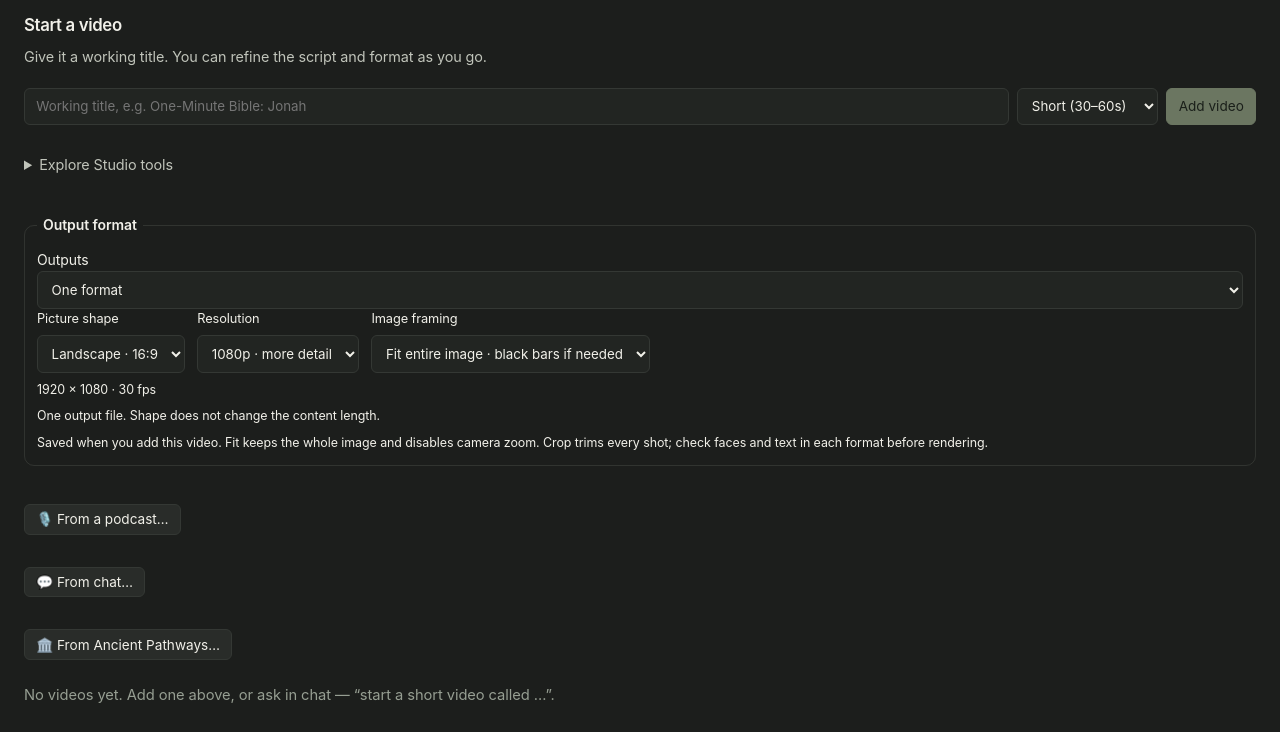
Media Studio — from a podcast feed › a bad link shows the plain-language reason and creates nothing
(page scrolled)
Click the button "From a podcast…" at x=102, y=519, box [24, 504, 181, 535]
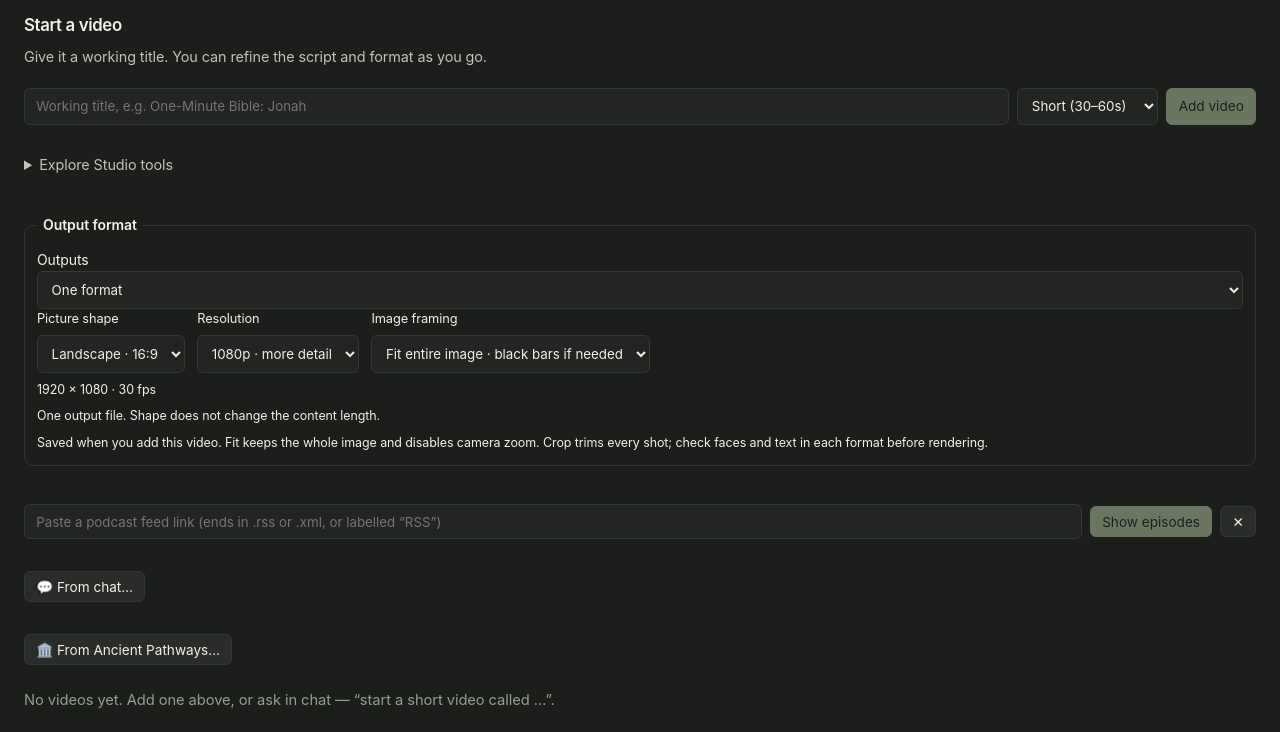
Replace the text in the field labelled "podcast feed link" with "https://example.com/" at x=553, y=522, box [24, 504, 1082, 540]
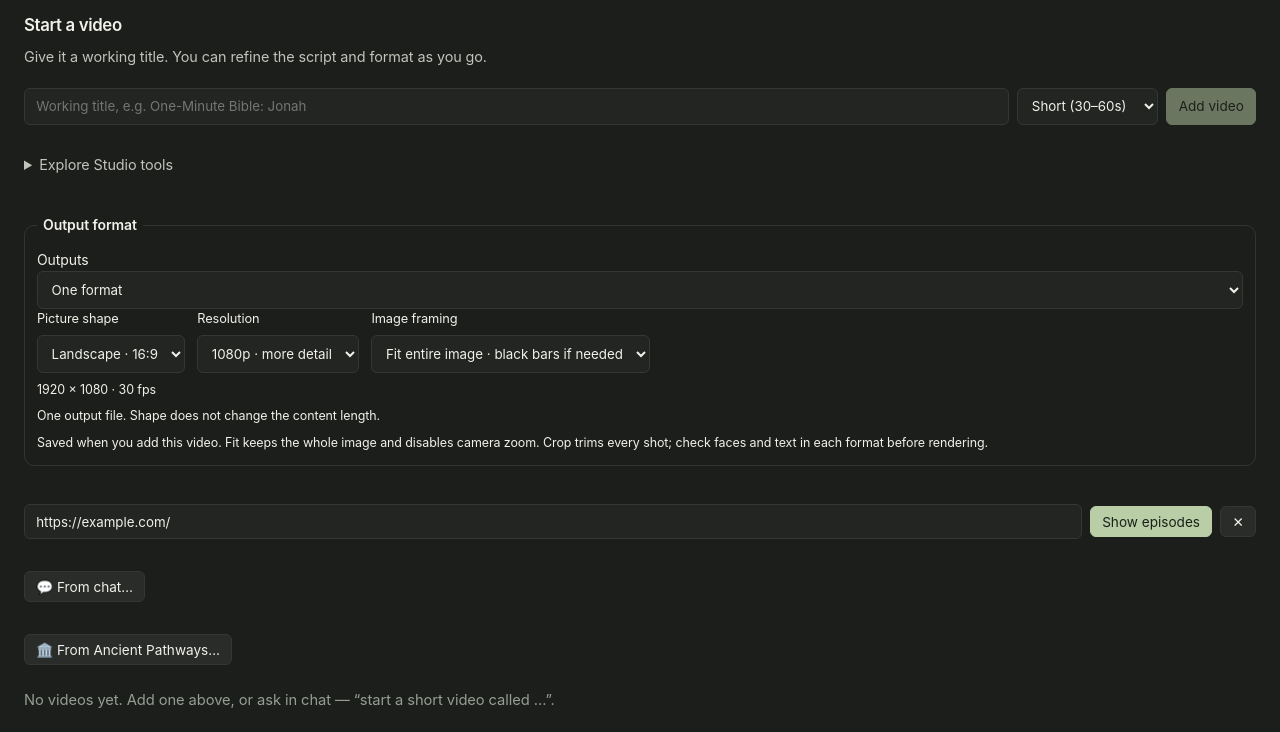
Click the button "Show episodes" at x=1151, y=522, box [1090, 506, 1212, 537]
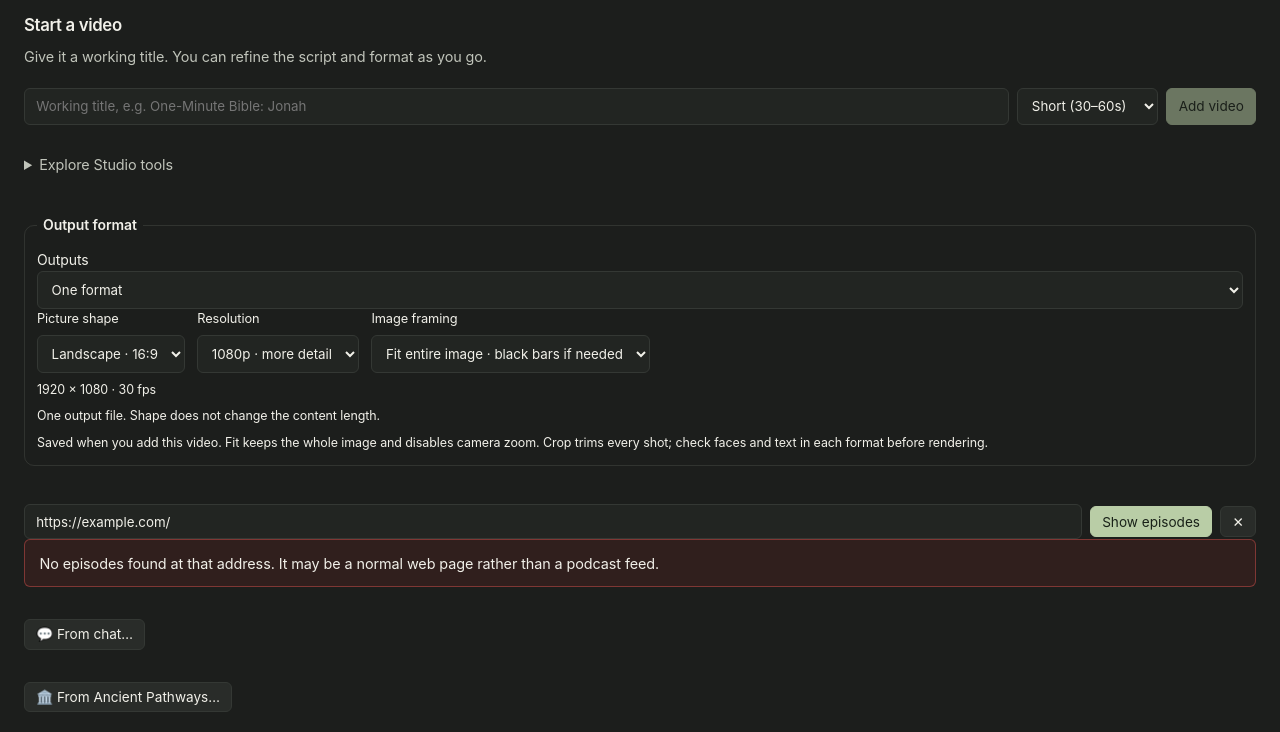
Now the text "normal web page" is shown, box [39, 555, 659, 572]
